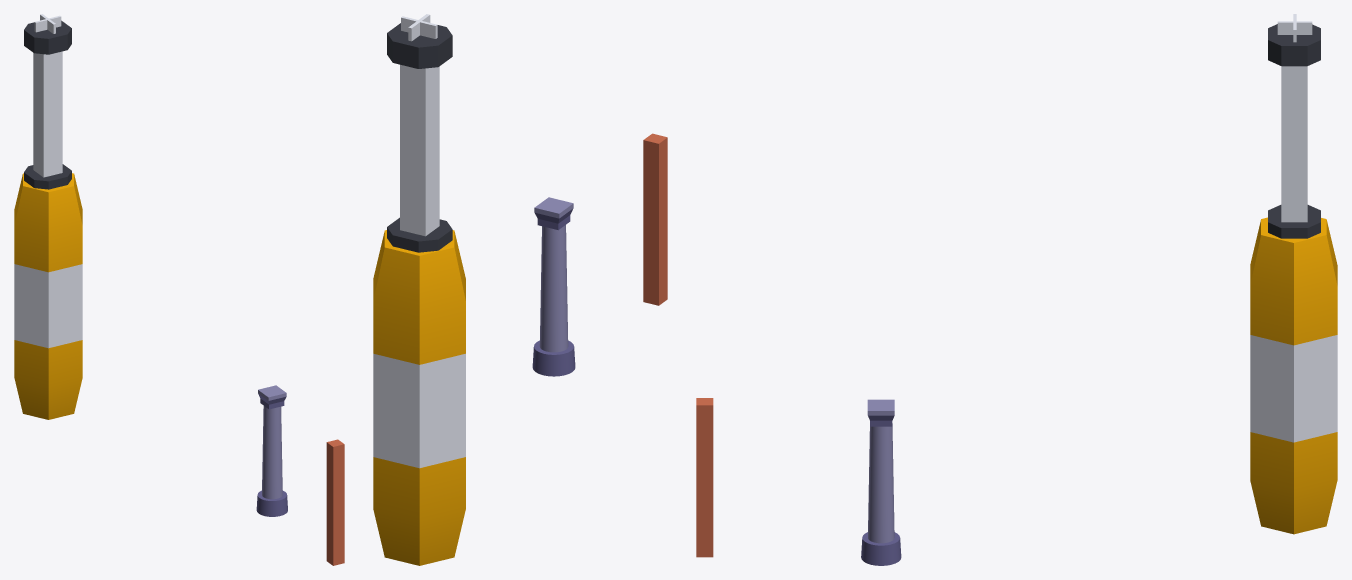
Rendered from screwdriver.fbx.
3 renders of one model, left to right at view 1: azimuth 30°, elevation 25°; view 2: azimuth 150°, elevation 25°; view 3: azimuth 270°, elevation 25°, orthographic. The views are drawn at different scales.
Parts seen in each view (by area): view 1: tank_single, socket_small, column_round, column_pole; view 2: tank_single, socket_small, column_round, column_pole, block; view 3: tank_single, socket_small, column_round, column_pole.
Part boxes in pixels (<box>): tank_single: <box>14,173,82,419</box>; socket_small: <box>24,20,71,189</box>; column_round: <box>256,385,287,516</box>; column_pole: <box>326,439,344,565</box>; tank_single: <box>373,230,465,565</box>; socket_small: <box>387,23,452,252</box>; column_round: <box>532,197,575,376</box>; column_pole: <box>643,133,667,305</box>; block: <box>401,16,437,38</box>; tank_single: <box>1250,217,1337,534</box>; socket_small: <box>1268,24,1320,238</box>; column_round: <box>861,399,901,565</box>; column_pole: <box>696,398,713,557</box>.
Size of the model in its own units: 9.7 by 32.61 by 38.17.
